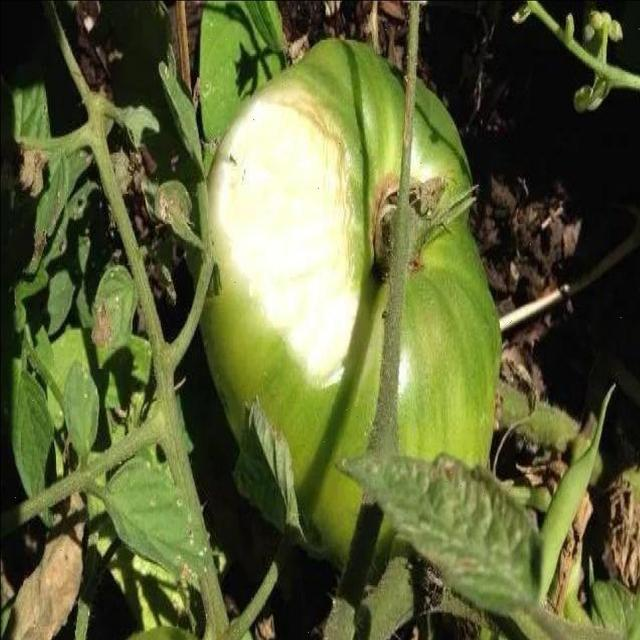Sunscald Fruit: (142, 60, 233, 257)
